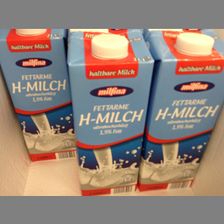milk: (69, 31, 156, 196), (140, 29, 223, 192), (1, 29, 77, 161)
